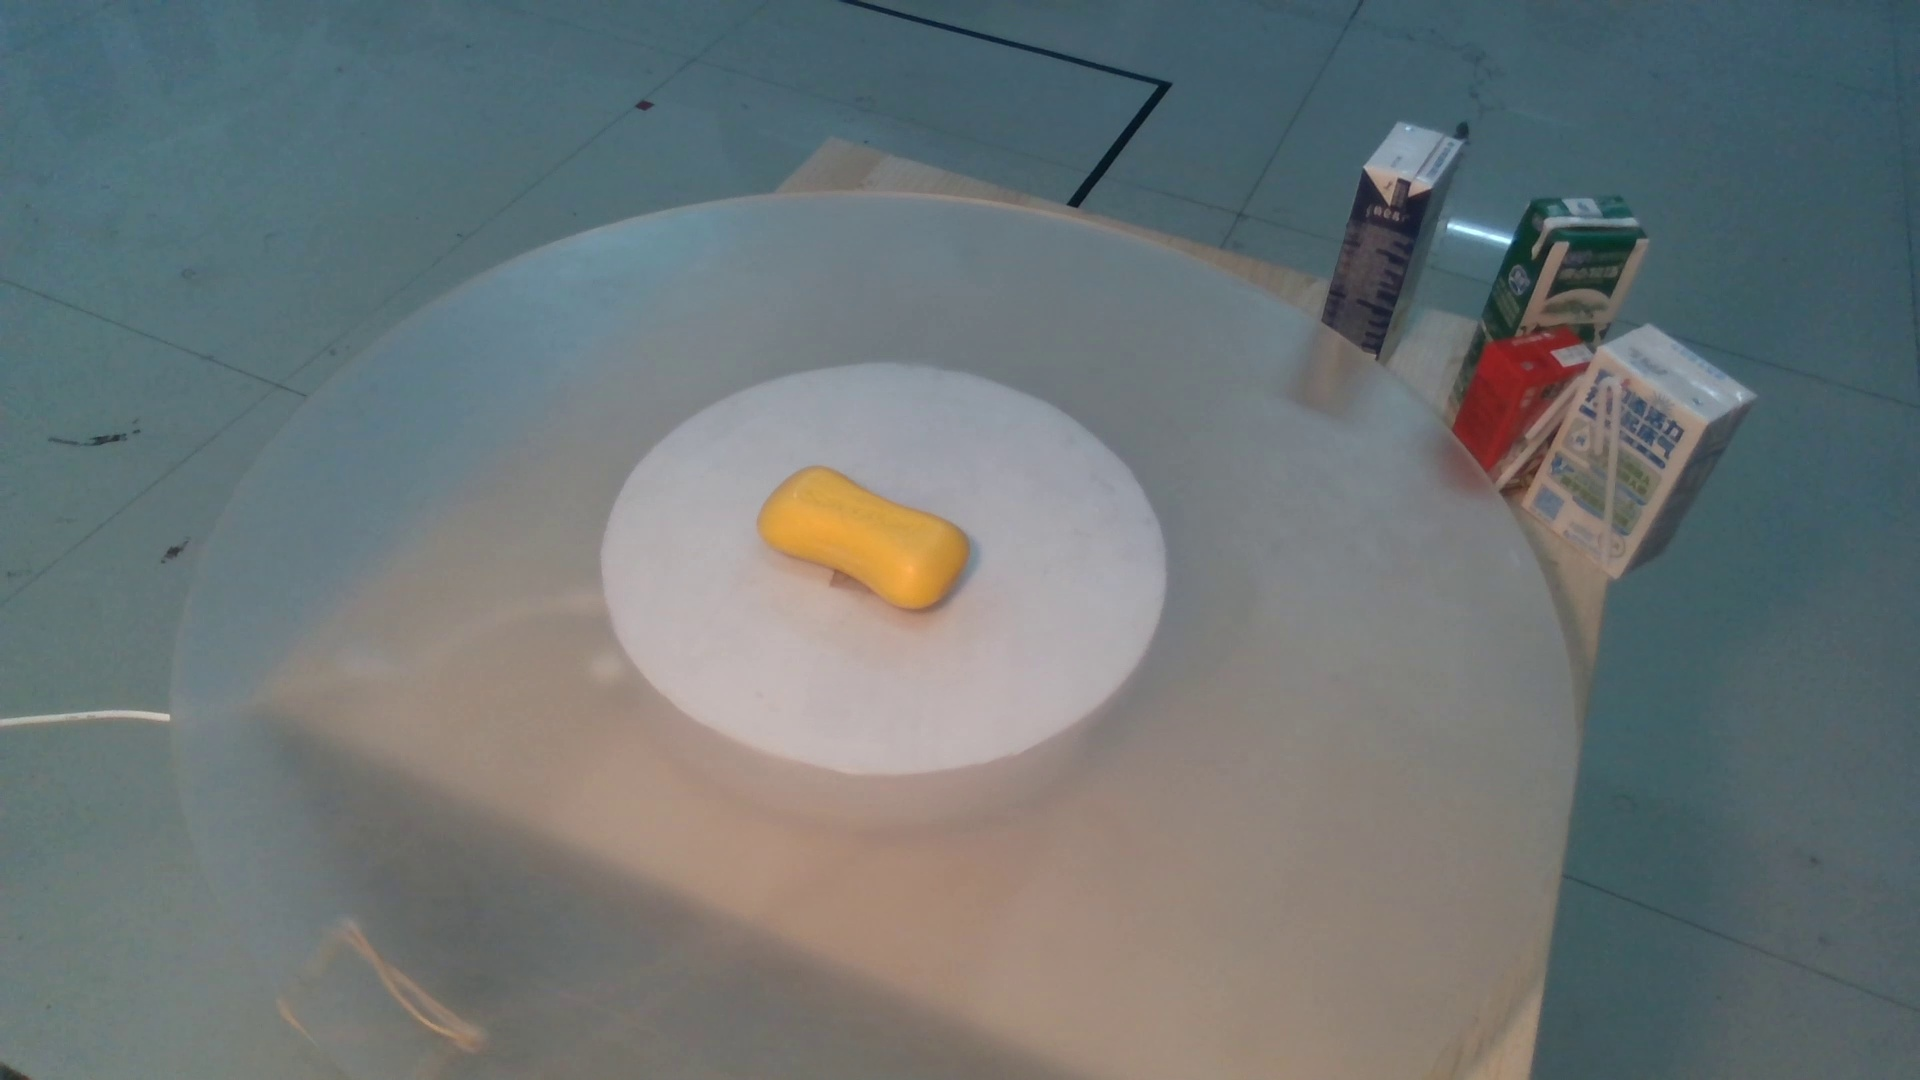CA003_1: (746, 459, 1033, 636)
